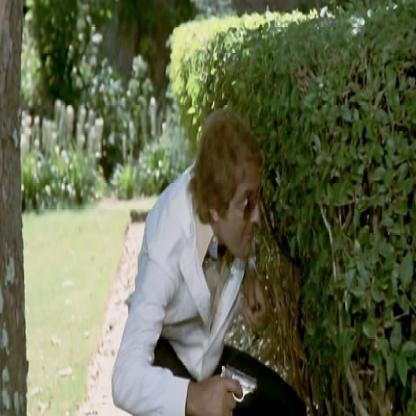gun: (217, 351, 263, 409)
